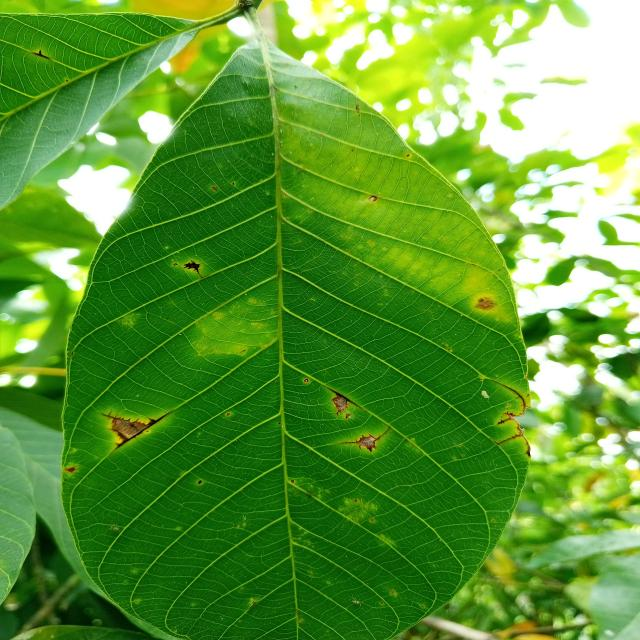Colletotrichum: (369, 196, 377, 201), (304, 378, 309, 382), (173, 263, 178, 266), (406, 154, 409, 157), (212, 187, 215, 190), (227, 413, 230, 415), (291, 480, 294, 482), (309, 210, 311, 212)
Corynespora: (101, 410, 173, 450), (337, 426, 391, 452), (491, 379, 526, 414), (325, 386, 360, 416), (494, 433, 521, 446), (184, 260, 202, 278), (497, 412, 516, 425), (31, 50, 50, 59)
